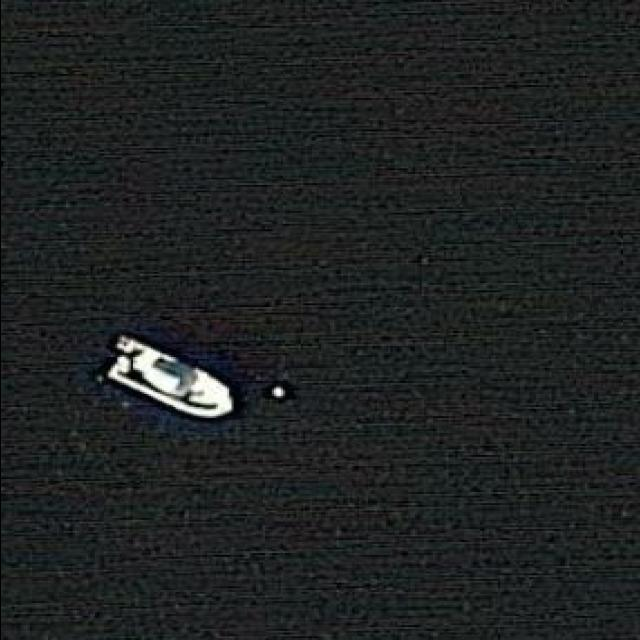ship: (101, 330, 237, 420)
